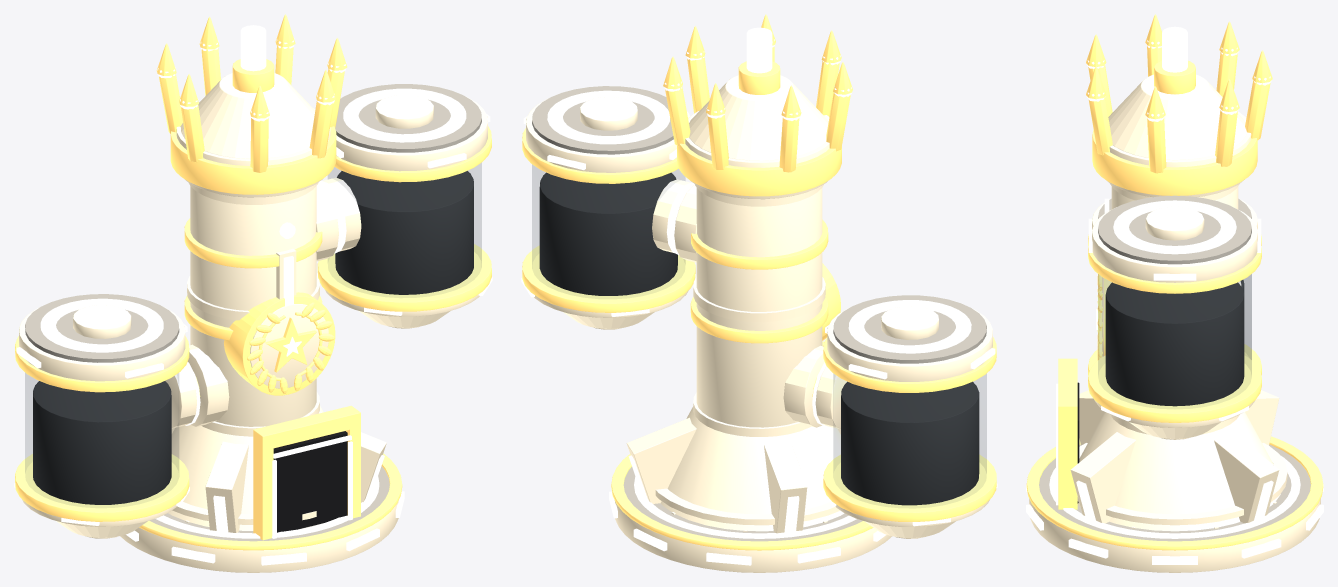
The model's file is Vat_Graduate_T2.glb.
The picture shows the model from 3 angles, left to right: view 1: azimuth 30°, elevation 25°; view 2: azimuth 150°, elevation 25°; view 3: azimuth 270°, elevation 25°; orthographic projection.
Visible parts, largest first — view 1: Vat_Graduate_T2; view 2: Vat_Graduate_T2; view 3: Vat_Graduate_T2.
Part boxes in pixels (x1,y1,x2,y2): Vat_Graduate_T2: (14,14,492,572); Vat_Graduate_T2: (521,14,997,572); Vat_Graduate_T2: (1026,14,1323,572).
Size of the model in its own units: 6.45 by 6.62 by 3.67.
